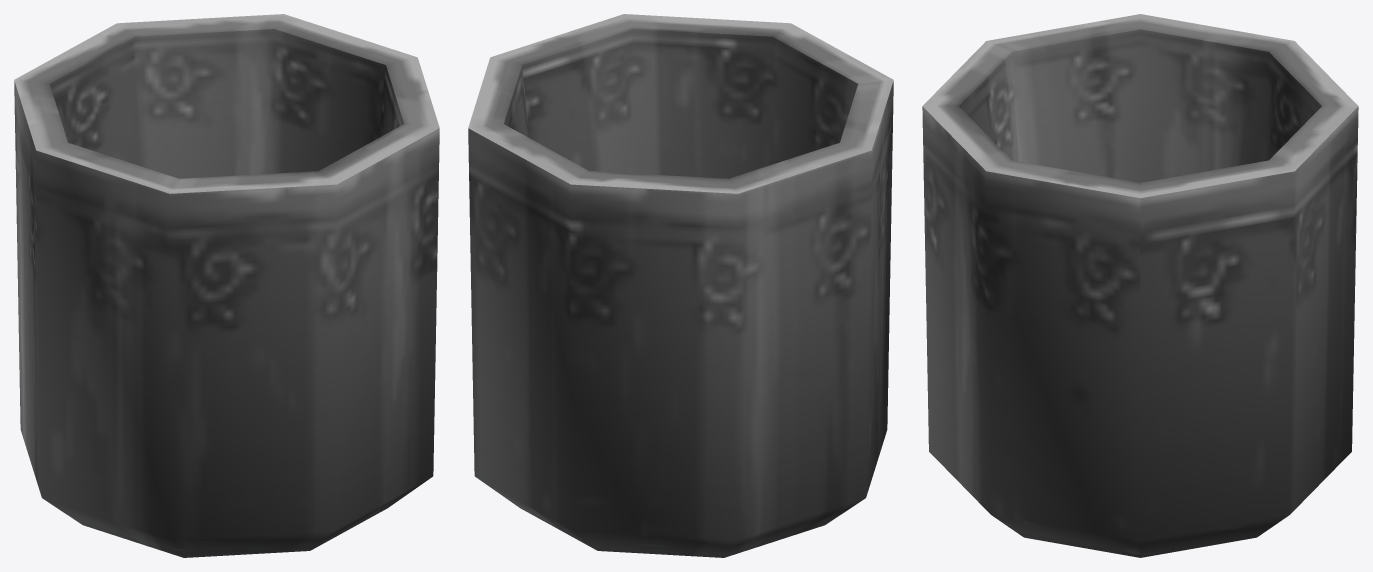
File: SM_PROP_glass_city_04.fbx
The picture shows the model from 3 angles, left to right: view 1: azimuth 30°, elevation 25°; view 2: azimuth 150°, elevation 25°; view 3: azimuth 270°, elevation 25°; orthographic projection.
Parts seen in each view (by area): view 1: SM_PROP_glass_city_04; view 2: SM_PROP_glass_city_04; view 3: SM_PROP_glass_city_04.
Boxes of the visible parts, bbox=[...] form: SM_PROP_glass_city_04: bbox=[14, 14, 439, 557]; SM_PROP_glass_city_04: bbox=[468, 14, 893, 557]; SM_PROP_glass_city_04: bbox=[922, 14, 1358, 557].
Bounding box in the file's own units: 9.75 × 9.43 × 9.75.
